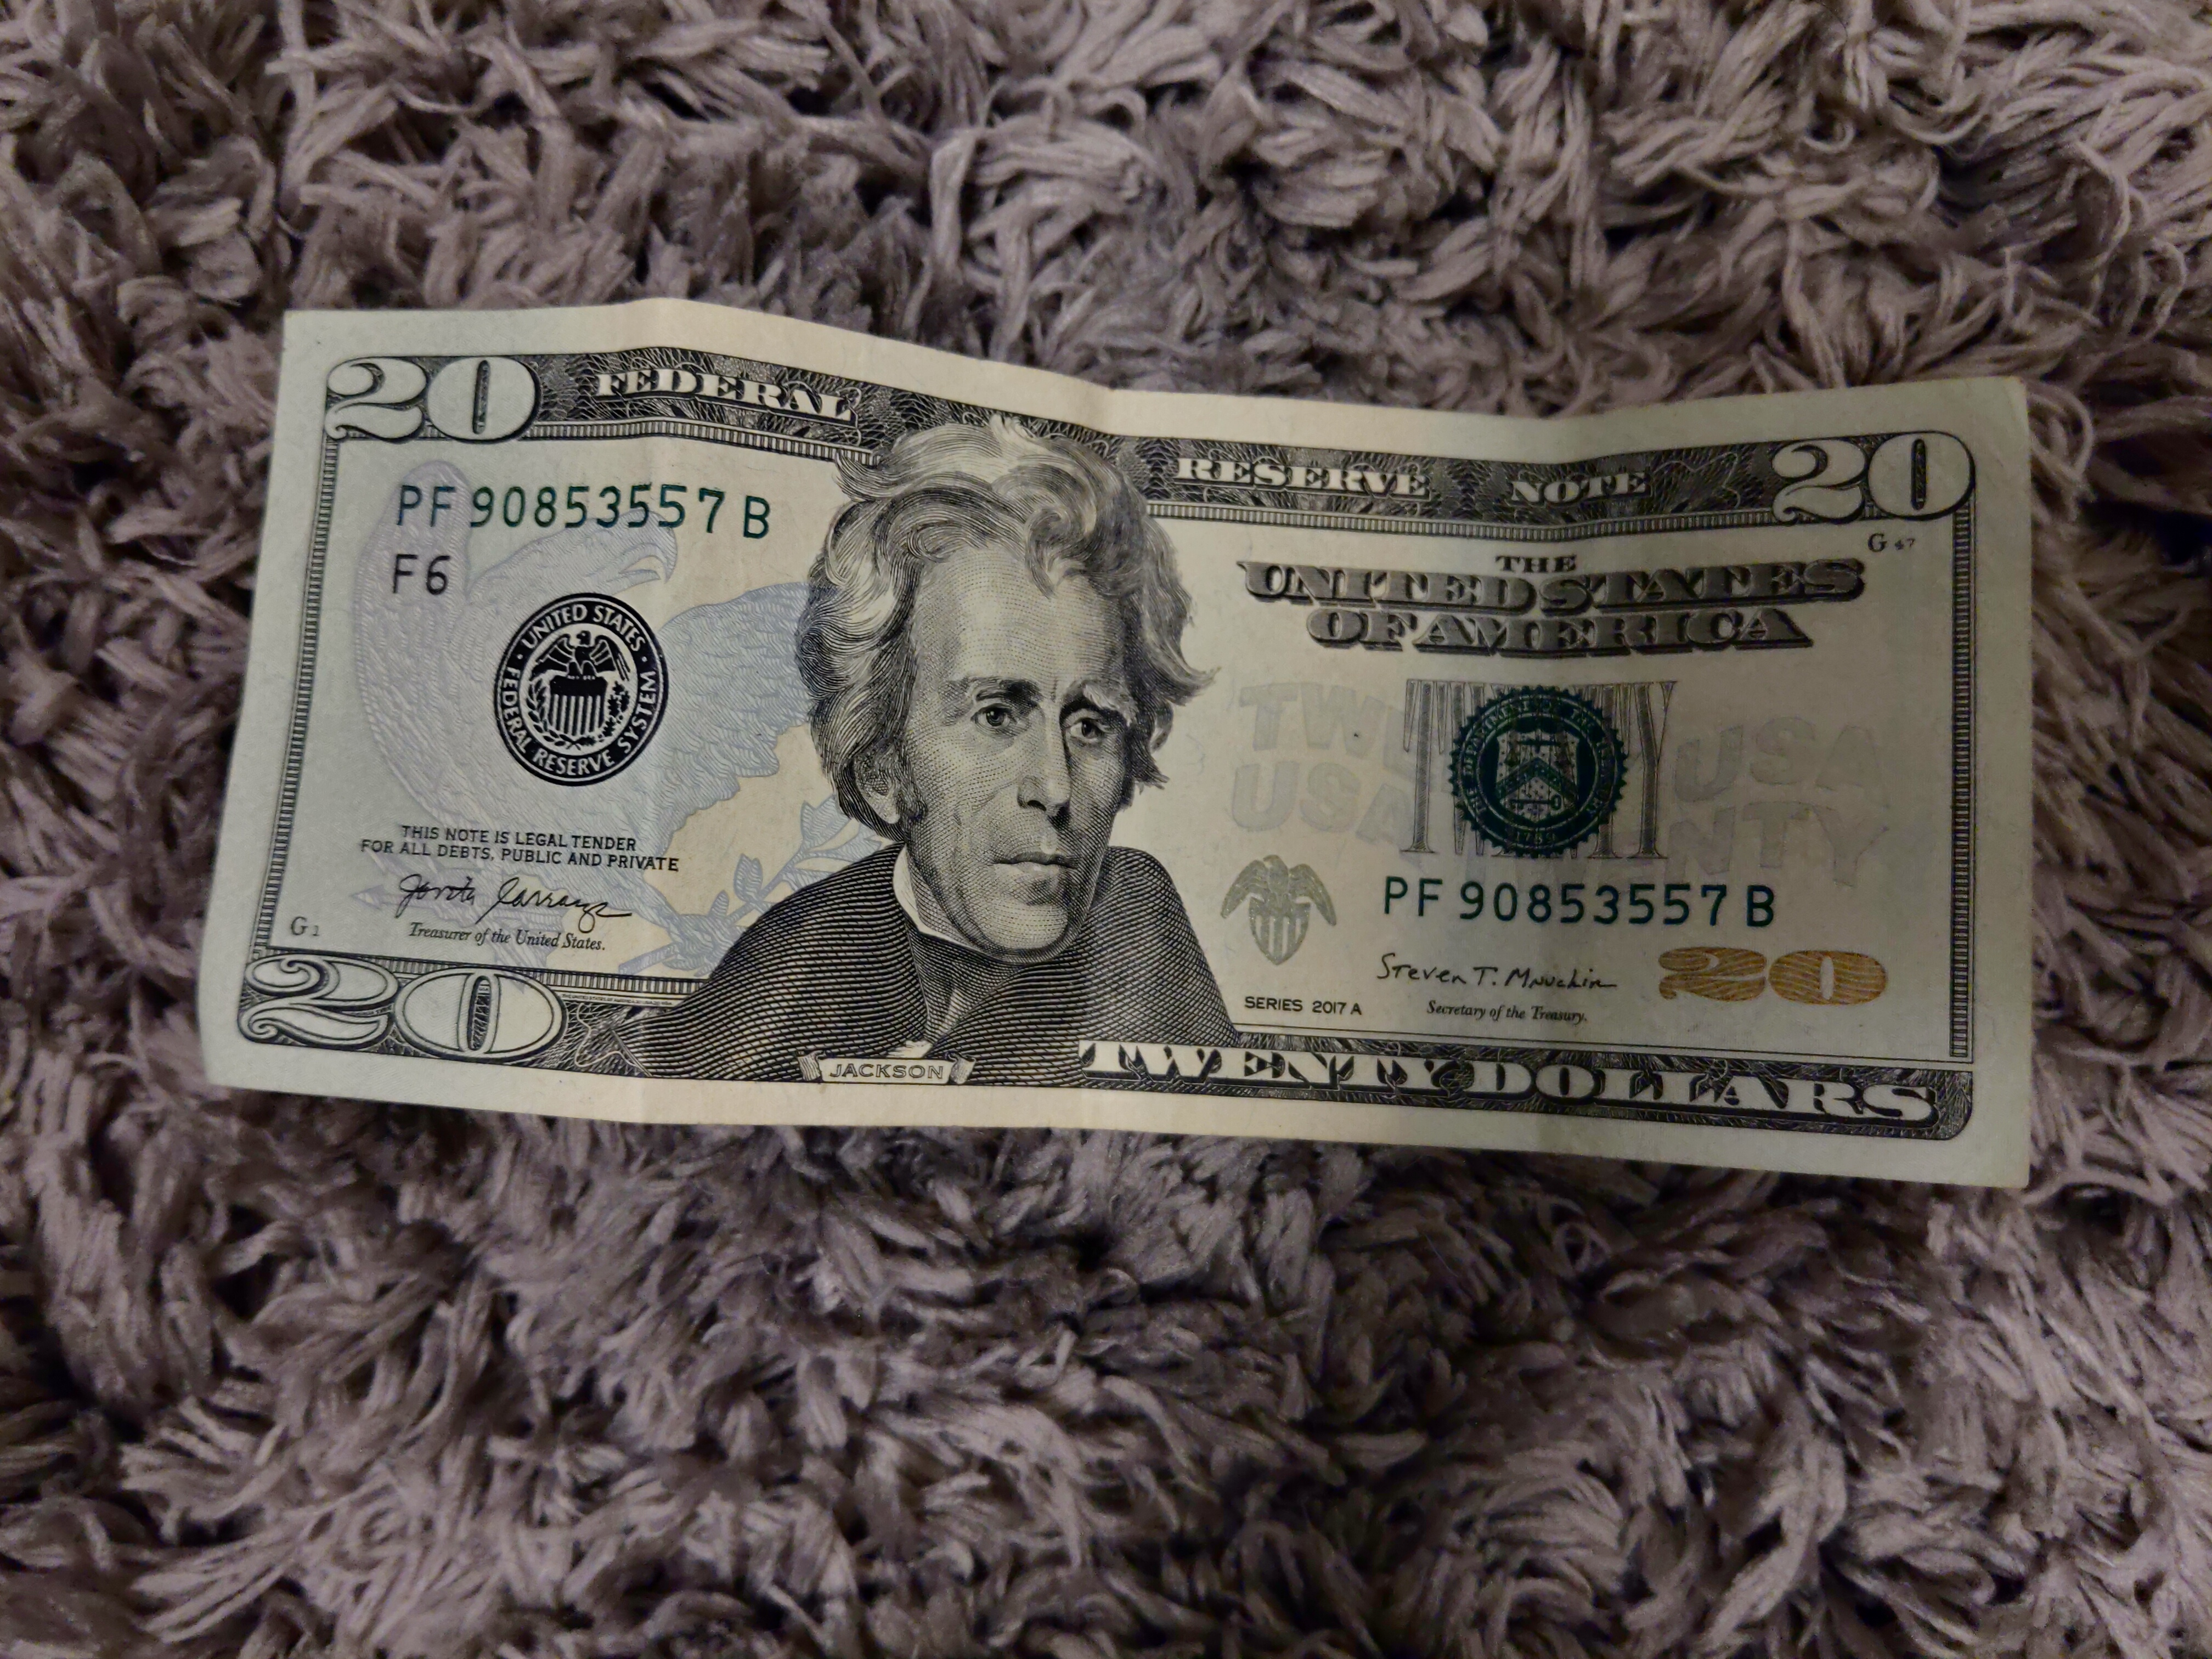TwentyBill: (195, 295, 2038, 1192)
